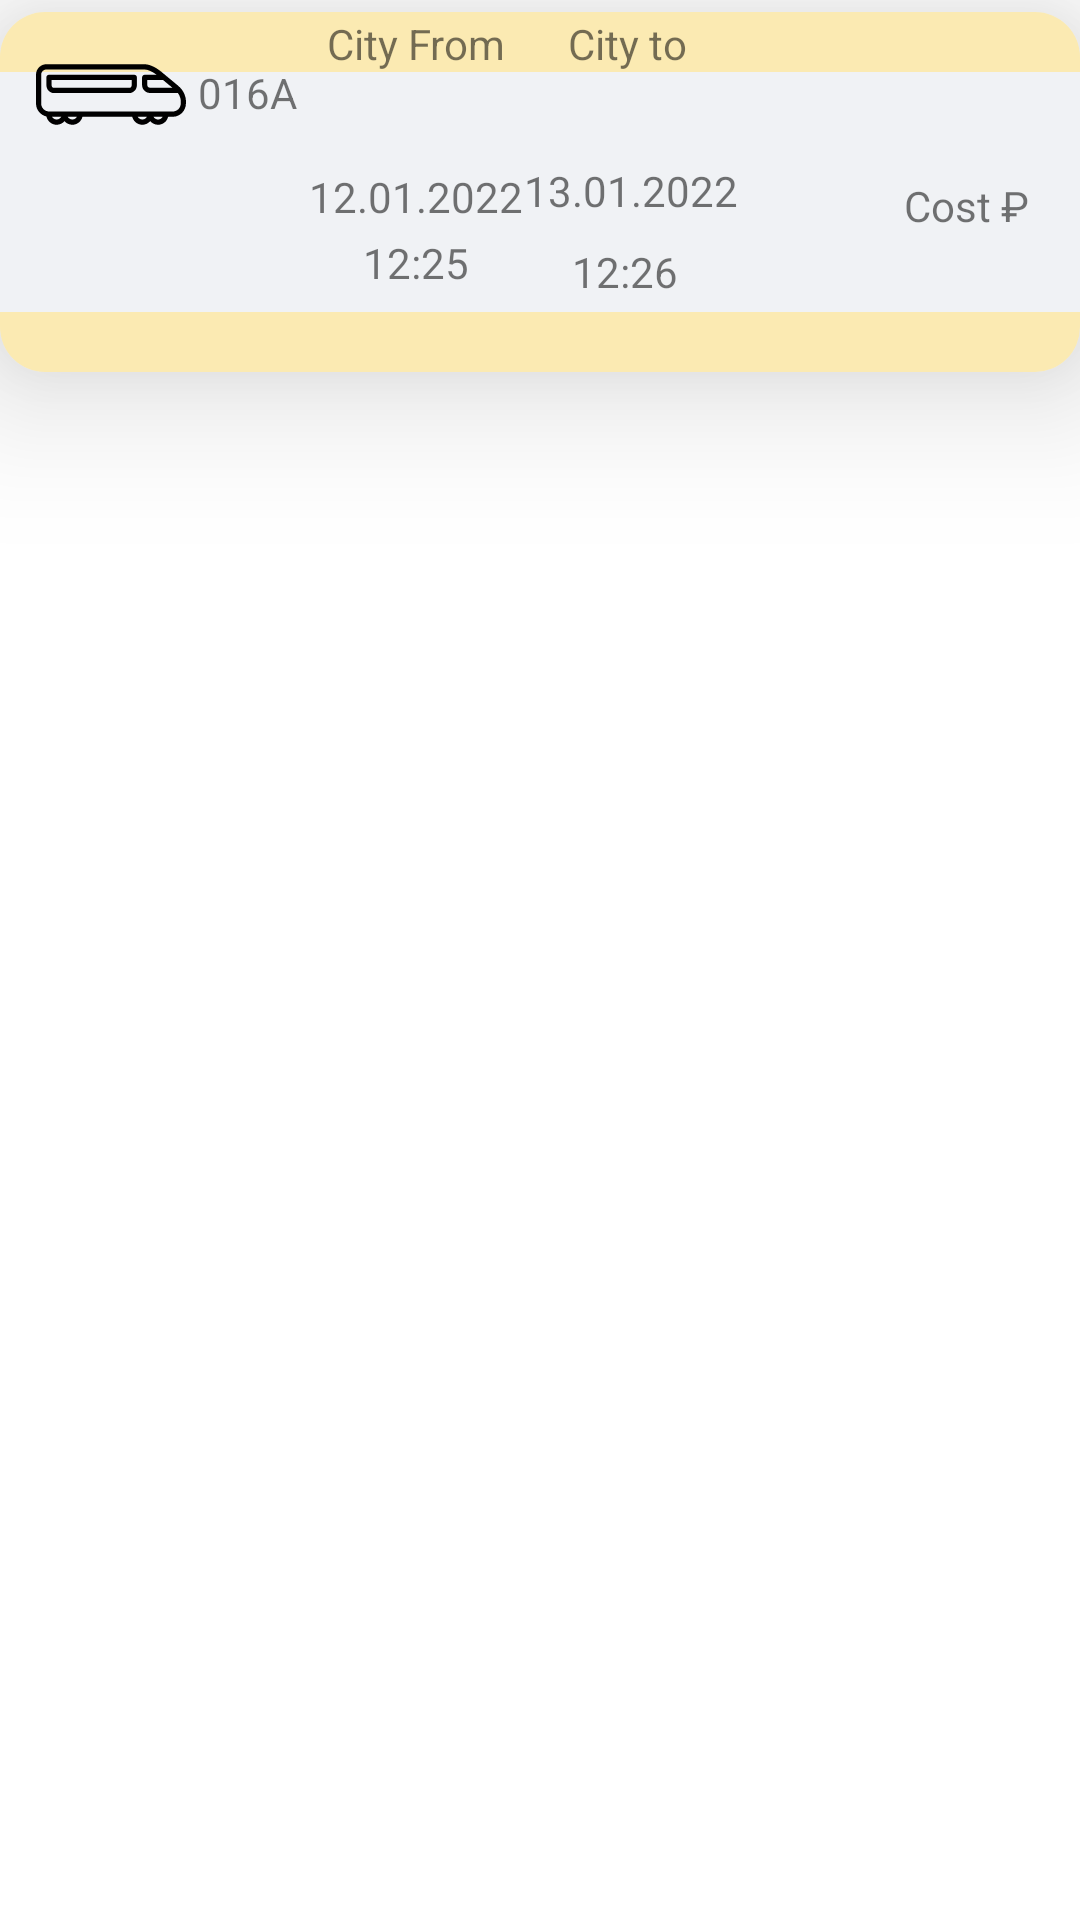

Screen size 1080w x 1920h. Icon name, then its center in pixels as (x,y):
train ticket: (111,94)
